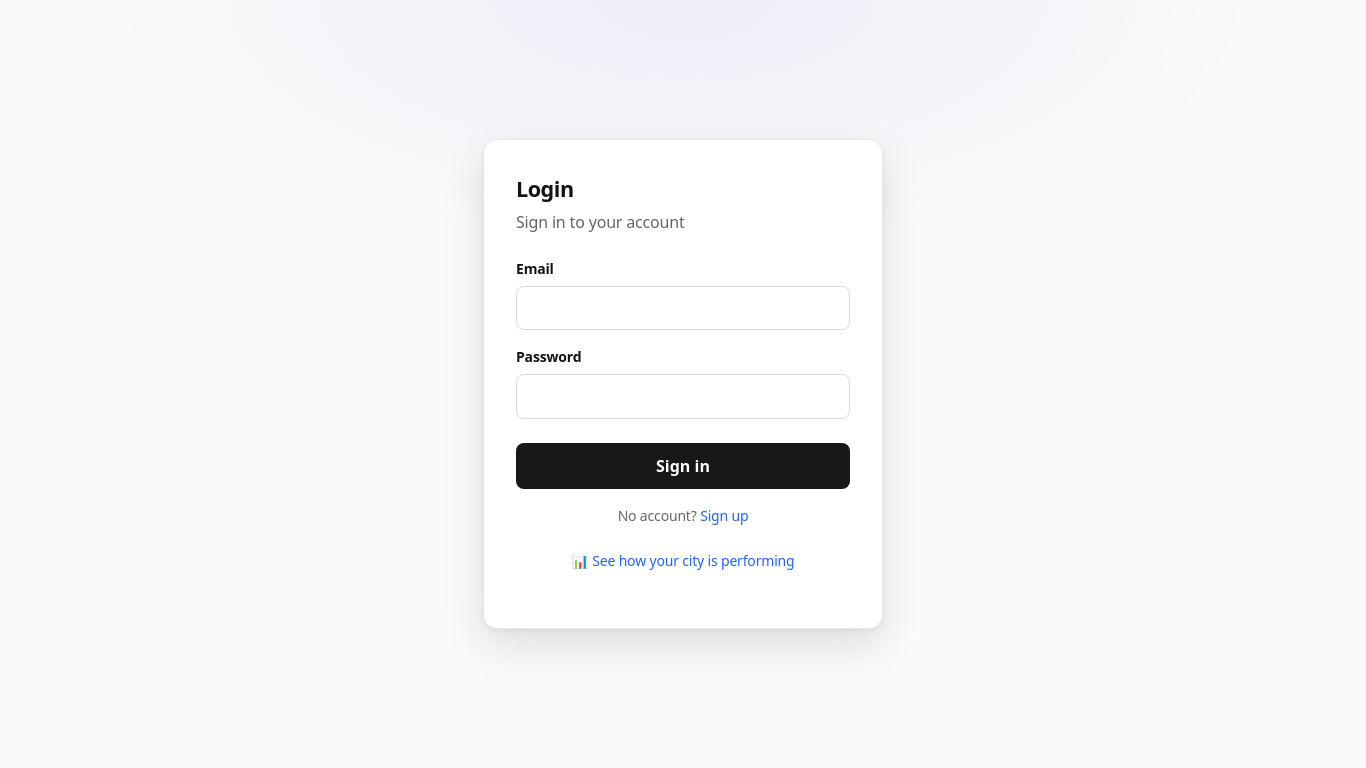
Test: Frontend routing › redirects admin login to /admin
The width and height of the screenshot is (1366, 768).
In the field labelled "Email": (683, 308) [516,286,850,330], type "a@example.com"
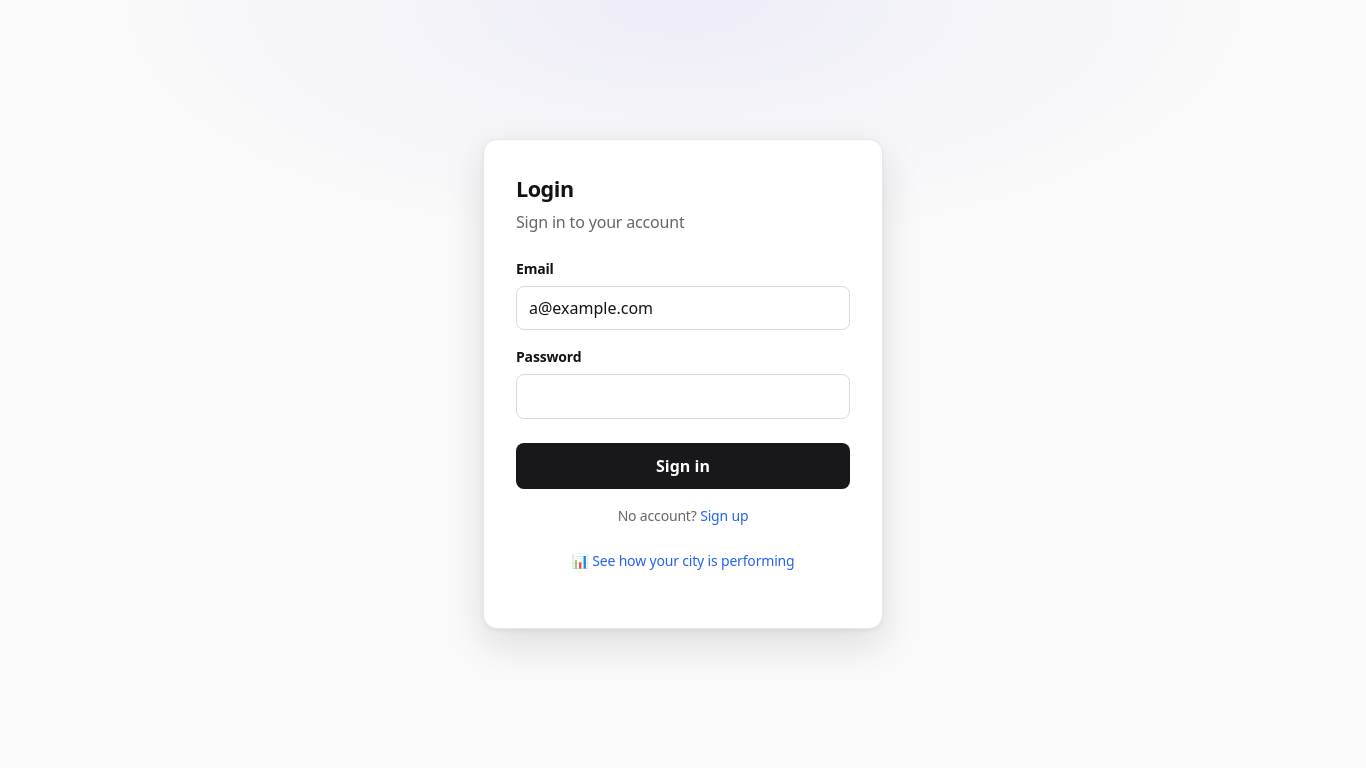
In the password field labelled "Password": (683, 396) [516,374,850,418], type "password123"
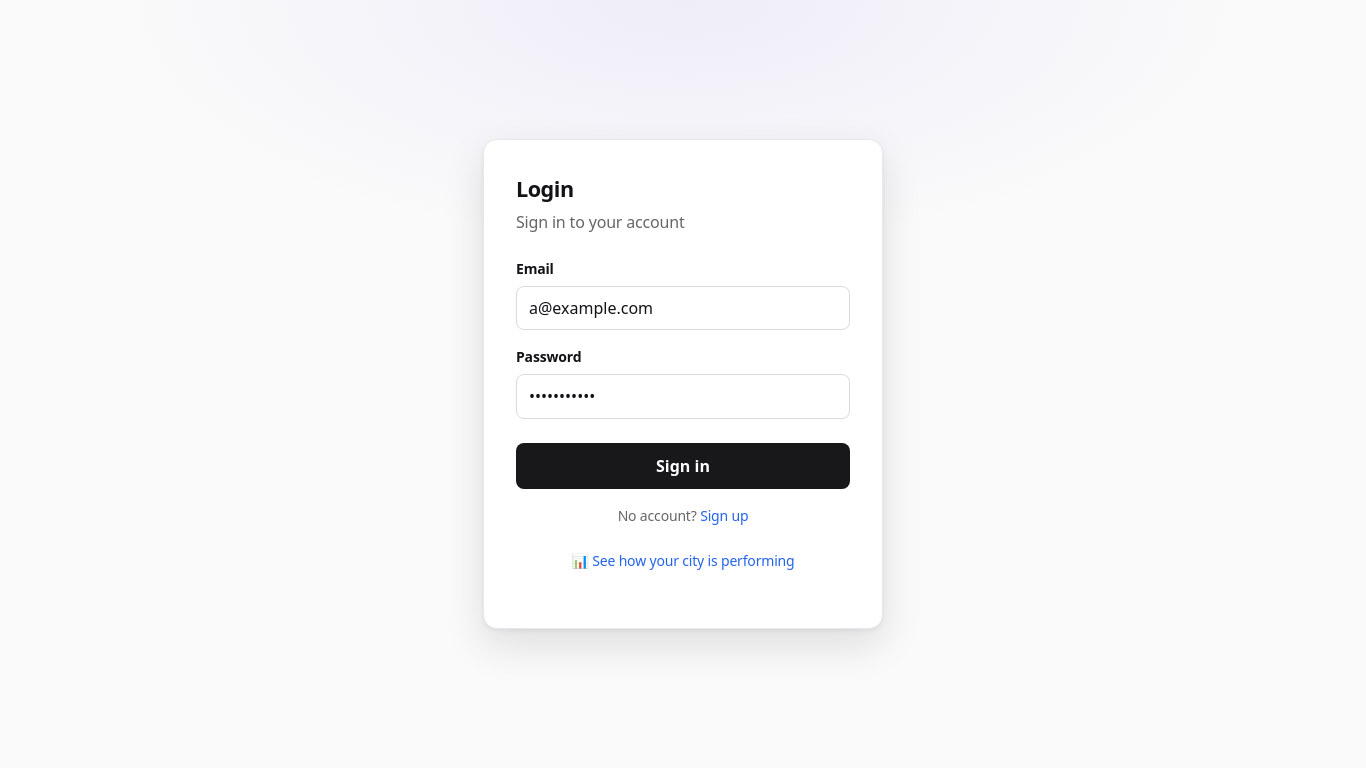
Click the button "Sign in": (683, 466) [516,442,850,488]
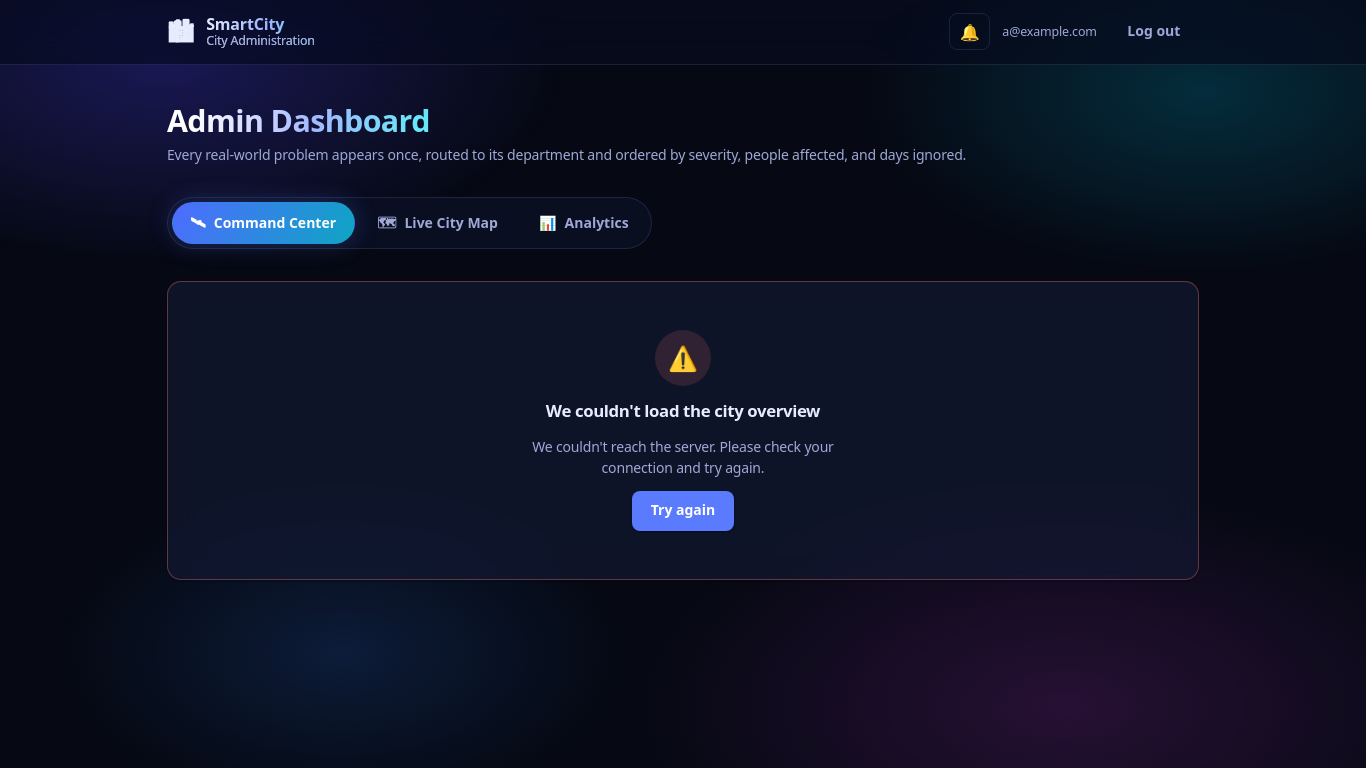
Now the heading "Admin Dashboard" is shown, box [167,97,430,144]
